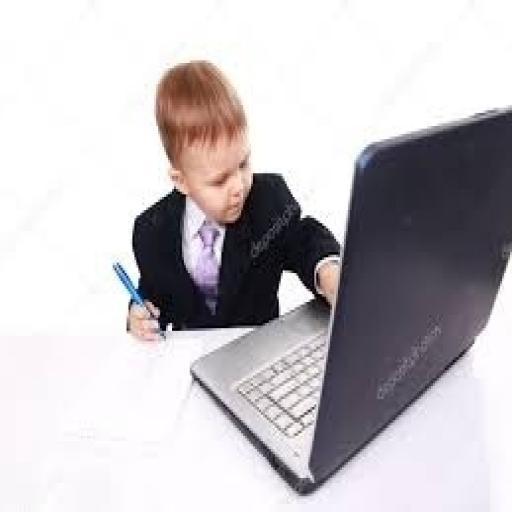using_laptop: (188, 95, 510, 496)
